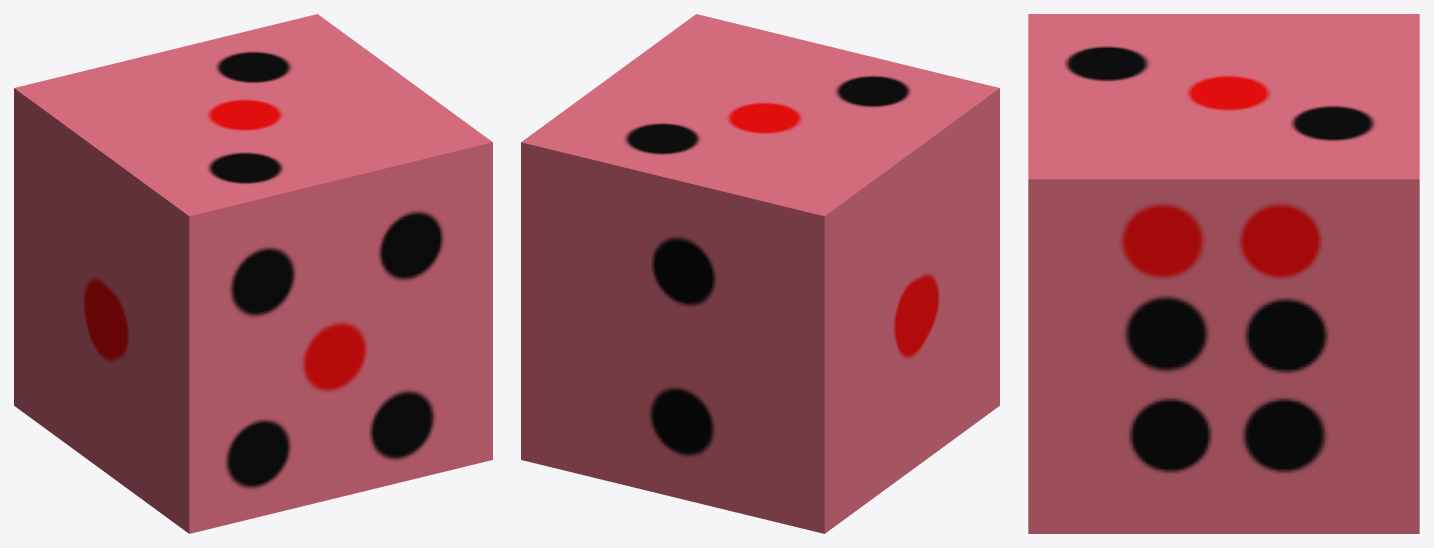
File: dicealpha.fbx
3 views of the same model, side by side, from view 1: azimuth 30°, elevation 25°; view 2: azimuth 150°, elevation 25°; view 3: azimuth 270°, elevation 25° (orthographic). The views are drawn at different scales.
Parts seen in each view (by area): view 1: pCube3; view 2: pCube3; view 3: pCube3.
Part boxes in pixels (left/top/right/bottom): pCube3: left=14, top=14, right=492, bottom=533; pCube3: left=521, top=14, right=999, bottom=533; pCube3: left=1028, top=14, right=1419, bottom=533.
Bounding box in the file's own units: 1 × 1 × 1.
Materials: 1 (1 with a texture image).
